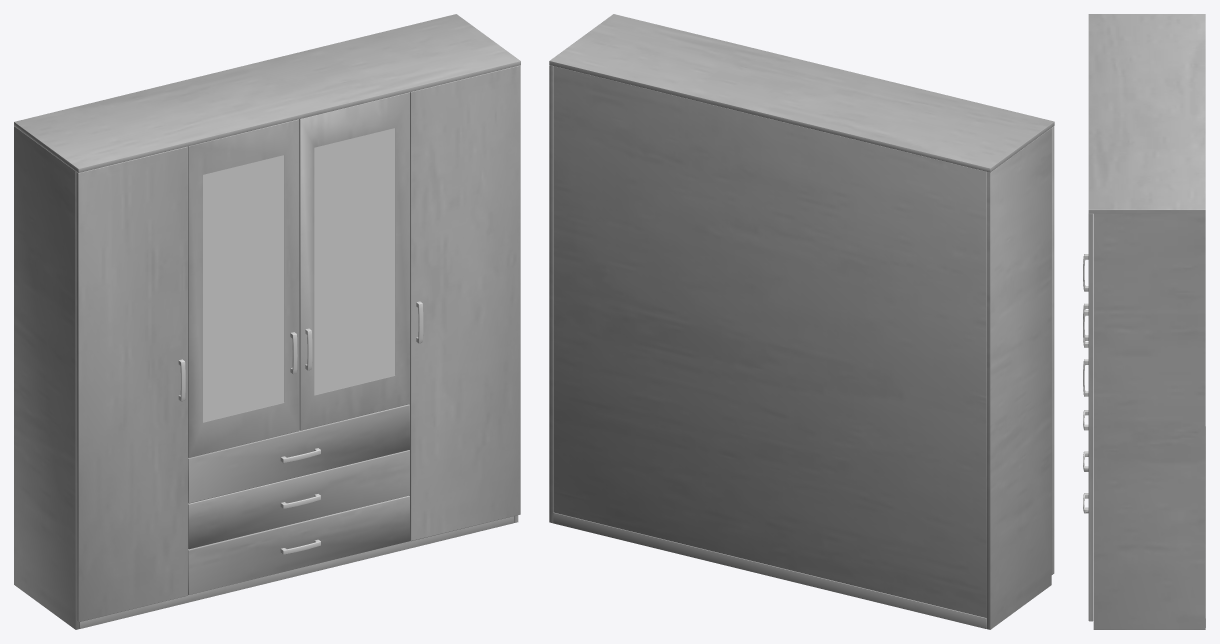
The picture shows the model from 3 angles, left to right: view 1: azimuth 30°, elevation 25°; view 2: azimuth 150°, elevation 25°; view 3: azimuth 270°, elevation 25°; orthographic projection. The views are drawn at different scales.
Parts seen in each view (by area): view 1: Object_108, Object_109, Object_110; view 2: Object_108; view 3: Object_108, Object_110.
Boxes of the visible parts, bbox=[...] form: Object_108: bbox=[14, 14, 520, 629]; Object_109: bbox=[203, 128, 395, 422]; Object_110: bbox=[178, 301, 423, 554]; Object_108: bbox=[549, 14, 1054, 629]; Object_108: bbox=[1088, 14, 1205, 629]; Object_110: bbox=[1083, 254, 1088, 513].
Size of the model in its own units: 1.96 by 1.96 by 0.5204.
Materials: 3 (1 with a texture image).
